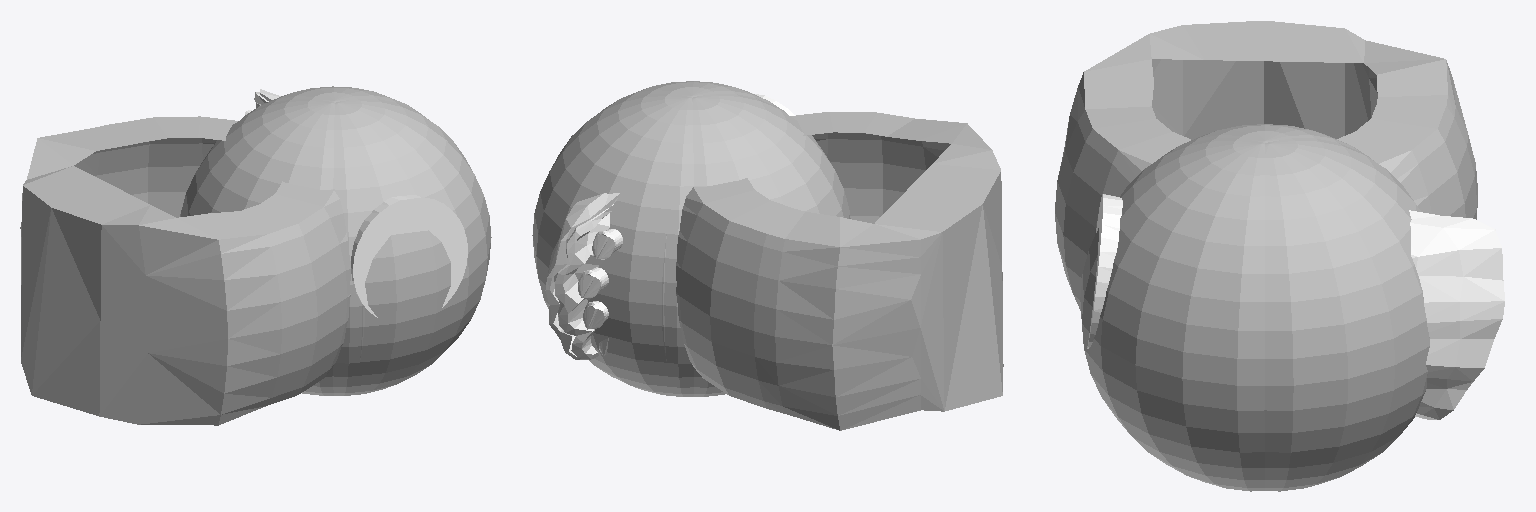
--- What the picture shows (computed from the rendered views, not written in the file) ---
3 views of the same robot in one strip: view 1: azimuth 30°, elevation 25°; view 2: azimuth 150°, elevation 25°; view 3: azimuth 270°, elevation 25° (orthographic).
Robot: JulietteY20MP_crowdbotsim — 96 links, 95 joints (45 revolute, 3 continuous, 47 fixed); root link base_link; default pose: all joints at 0 but 6 set to mid-range because 0 is outside their limits (LShoulderRoll = 0.7854, LElbowRoll = -0.7854, LHand = 0.5, RShoulderRoll = -0.7854, RElbowRoll = 0.7854, RHand = 0.5).
Links seen in each view (by area): view 1: Hip, WheelFR_link, WheelB_link, r_wrist, WheelFL_link; view 2: Hip, WheelFL_link, WheelB_link, r_wrist, WheelFR_link; view 3: Hip, WheelFR_link, WheelFL_link, r_wrist, WheelB_link.
Link boxes in pixels (x1,y1,x2,y2): Hip: [20, 116, 350, 425]; WheelFR_link: [333, 99, 491, 395]; WheelB_link: [180, 99, 364, 395]; r_wrist: [245, 89, 467, 317]; WheelFL_link: [242, 86, 428, 119]; Hip: [676, 112, 1003, 430]; WheelFL_link: [532, 94, 693, 396]; WheelB_link: [662, 94, 850, 396]; r_wrist: [545, 93, 794, 359]; WheelFR_link: [598, 81, 786, 113]; Hip: [1055, 21, 1477, 310]; WheelFR_link: [1080, 138, 1264, 491]; WheelFL_link: [1265, 138, 1429, 491]; r_wrist: [1087, 194, 1504, 419]; WheelB_link: [1158, 124, 1373, 160].
Bounding box of the posed robot: 22.98 × 17.27 × 14 m (x, y, z).
45 mesh visuals loaded from 58 distinct referenced files (45 binary STL); not drawn: 13 (reference not matched to a file when rendering).

The robot description file, URDF, robot "JulietteY20MP_crowdbotsim":
<?xml version="1.0" encoding="utf-8"?>
<robot name="JulietteY20MP_crowdbotsim">
  <material name="defaultMat">
    <color rgba="0.8 0.8 0.8 1" />
  </material>
  <material name="PepperWhiteBright">
    <color rgba="1 1 1 1" />
  </material>
  <material name="HipRoll_GROUPE_01_JULIETT.000Mat">
    <color rgba="0.8 0.8 0.8 1" />
  </material>
  <material name="HeadYaw_JULIETTE_TETE_GROUPE_Mat">
    <color rgba="0.8 0.8 0.8 1" />
  </material>
  <material name="PepperBlackMat">
    <color rgba="0.1471 0.1471 0.1471 1" />
  </material>
  <material name="PepperBlueMat">
    <color rgba="0.2564 0.3478 0.6838 1" />
  </material>
  <material name="logoCB2">
    <texture filename="package://crowdbotsim/resources/logoCB.png" />
  </material>
  <material name="LShoulderPitch_JULIETTE_BRAS_DR_.001Mat">
    <color rgba="0.8 0.8 0.8 1" />
  </material>
  <material name="LElbowYaw_JULIETTE_AV_BRAS_.026Mat">
    <color rgba="0.8 0.8 0.8 1" />
  </material>
  <material name="LFinger21_JULIETTE_AV_BRAS_.077Mat">
    <color rgba="0.8 0.8 0.8 1" />
  </material>
  <material name="LFinger22_JULIETTE_AV_BRAS_.078Mat">
    <color rgba="0.8 0.8 0.8 1" />
  </material>
  <material name="LFinger23_JULIETTE_AV_BRAS_.079Mat">
    <color rgba="0.8 0.8 0.8 1" />
  </material>
  <material name="LFinger11_JULIETTE_AV_BRAS_.075Mat">
    <color rgba="0.8 0.8 0.8 1" />
  </material>
  <material name="LFinger12_JULIETTE_AV_BRAS_.076Mat">
    <color rgba="0.8 0.8 0.8 1" />
  </material>
  <material name="LFinger13_JULIETTE_AV_BRAS_.010Mat">
    <color rgba="0.8 0.8 0.8 1" />
  </material>
  <material name="LFinger41_JULIETTE_AV_BRAS_.083Mat">
    <color rgba="0.8 0.8 0.8 1" />
  </material>
  <material name="LFinger42_JULIETTE_AV_BRAS_.084Mat">
    <color rgba="0.8 0.8 0.8 1" />
  </material>
  <material name="LFinger43_JULIETTE_AV_BRAS_.085Mat">
    <color rgba="0.8 0.8 0.8 1" />
  </material>
  <material name="LFinger31_JULIETTE_AV_BRAS_.080Mat">
    <color rgba="0.8 0.8 0.8 1" />
  </material>
  <material name="LFinger32_JULIETTE_AV_BRAS_.081Mat">
    <color rgba="0.8 0.8 0.8 1" />
  </material>
  <material name="LFinger33_JULIETTE_AV_BRAS_.082Mat">
    <color rgba="0.8 0.8 0.8 1" />
  </material>
  <material name="LThumb1_JULIETTE_AV_BRAS_.086Mat">
    <color rgba="0.8 0.8 0.8 1" />
  </material>
  <material name="LThumb2_JULIETTE_AV_BRAS_.087Mat">
    <color rgba="0.8 0.8 0.8 1" />
  </material>
  <material name="RShoulderPitch_JULIETTE_BRAS_DR_ALLMat">
    <color rgba="0.8 0.8 0.8 1" />
  </material>
  <material name="RElbowYaw_JULIETTE_AV_BRAS_.003Mat">
    <color rgba="0.8 0.8 0.8 1" />
  </material>
  <material name="RFinger41_JULIETTE_AV_BRAS_.099Mat">
    <color rgba="0.8 0.8 0.8 1" />
  </material>
  <material name="RFinger42_JULIETTE_AV_BRAS_.100Mat">
    <color rgba="0.8 0.8 0.8 1" />
  </material>
  <material name="RFinger43_JULIETTE_AV_BRAS_.101Mat">
    <color rgba="0.8 0.8 0.8 1" />
  </material>
  <material name="RFinger31_JULIETTE_AV_BRAS_.096Mat">
    <color rgba="0.8 0.8 0.8 1" />
  </material>
  <material name="RFinger32_JULIETTE_AV_BRAS_.097Mat">
    <color rgba="0.8 0.8 0.8 1" />
  </material>
  <material name="RFinger33_JULIETTE_AV_BRAS_.098Mat">
    <color rgba="0.8 0.8 0.8 1" />
  </material>
  <material name="RFinger21_JULIETTE_AV_BRAS_.093Mat">
    <color rgba="0.8 0.8 0.8 1" />
  </material>
  <material name="RFinger22_JULIETTE_AV_BRAS_.094Mat">
    <color rgba="0.8 0.8 0.8 1" />
  </material>
  <material name="RFinger23_JULIETTE_AV_BRAS_.095Mat">
    <color rgba="0.8 0.8 0.8 1" />
  </material>
  <material name="RFinger11_JULIETTE_AV_BRAS_.090Mat">
    <color rgba="0.8 0.8 0.8 1" />
  </material>
  <material name="RFinger12_JULIETTE_AV_BRAS_.091Mat">
    <color rgba="0.8 0.8 0.8 1" />
  </material>
  <material name="RFinger13_JULIETTE_AV_BRAS_.092Mat">
    <color rgba="0.8 0.8 0.8 1" />
  </material>
  <material name="RThumb1_JULIETTE_AV_BRAS_.088Mat">
    <color rgba="0.8 0.8 0.8 1" />
  </material>
  <material name="RThumb2_JULIETTE_AV_BRAS_.089Mat">
    <color rgba="0.8 0.8 0.8 1" />
  </material>
  <material name="WheelFL_GROUPE_01_JULIETT.003Mat">
    <color rgba="0.8 0.8 0.8 1" />
  </material>
  <material name="WheelB_GROUPE_01_JULIETT.004Mat">
    <color rgba="0.8 0.8 0.8 1" />
  </material>
  <material name="WheelFR_GROUPE_01_JULIETT.002Mat">
    <color rgba="0.8 0.8 0.8 1" />
  </material>
  <link name="base_link">
    <inertial>
      <origin rpy="0 0 0" xyz="0 0 0" />
      <mass value="1E-07" />
      <inertia ixx="1" ixy="0" ixz="0" iyy="1" iyz="0" izz="1" />
    </inertial>
  </link>
  <link name="base_footprint">
    <inertial>
      <origin rpy="0 0 0" xyz="0 0 0" />
      <mass value="1E-07" />
      <inertia ixx="1" ixy="0" ixz="0" iyy="1" iyz="0" izz="1" />
    </inertial>
  </link>
  <link name="Tibia">
    <inertial>
      <origin rpy="0 0 0" xyz="0.002205 0 0.082271" />
      <mass value="11.6014995575" />
      <inertia ixx="0.129179716110229" ixy="0.000148943698150106" ixz="-0.00131446425803006" iyy="0.122817315161228" iyz="-6.18266966512238E-08" izz="0.108239002525806" />
    </inertial>
    <visual>
      <geometry>
        <mesh filename="package://crowdbotsim/meshes/KneePitch_shiny.stl" scale="0.1 0.1 0.1" />
      </geometry>
      <material name="defaultMat" />
    </visual>
    <collision>
      <geometry>
        <mesh filename="package://crowdbotsim/meshes/KneePitch_0.10.stl" scale="0.1 0.1 0.1" />
      </geometry>
    </collision>
  </link>
  <link name="Pelvis">
    <inertial>
      <origin rpy="0 0 0" xyz="0.00237 0 -0.01754" />
      <mass value="2.4591701031" />
      <inertia ixx="0.0343529880046844" ixy="4.50889419880696E-05" ixz="-4.85995178678422E-06" iyy="0.0303127057850361" iyz="-8.37638581288047E-05" izz="0.0143746118992567" />
    </inertial>
    <visual>
      <origin xyz="0 0 0.268" />
      <geometry>
        <mesh filename="package://crowdbotsim/meshes/HipPitch_milky.stl" scale="0.1 0.1 0.1" />
      </geometry>
      <material name="PepperWhiteBright" />
    </visual>
    <collision>
      <origin xyz="0 0 0.268" />
      <geometry>
        <mesh filename="package://crowdbotsim/meshes/HipPitch_0.10.stl" scale="0.1 0.1 0.1" />
      </geometry>
    </collision>
  </link>
  <link name="Hip">
    <inertial>
      <origin rpy="0 0 0" xyz="0.00032 0 -0.07068" />
      <mass value="1.0233800411" />
      <inertia ixx="0.00440107891336083" ixy="4.93292791361455E-05" ixz="-4.91466471430613E-06" iyy="0.00502362661063671" iyz="5.6753218814265E-05" izz="0.00642004469409585" />
    </inertial>
    <visual>
      <origin xyz="0 0 0.079" />
      <geometry>
        <mesh filename="package://crowdbotsim/meshes/HipRoll.stl" scale="0.1 0.1 0.1" />
      </geometry>
      <material name="HipRoll_GROUPE_01_JULIETT.000Mat" />
    </visual>
    <collision>
      <origin xyz="0 0 0.079" />
      <geometry>
        <mesh filename="package://crowdbotsim/meshes/HipRoll_0.10.stl" scale="0.1 0.1 0.1" />
      </geometry>
    </collision>
  </link>
  <link name="torso">
    <inertial>
      <origin rpy="0 0 0" xyz="0.00322 0 0.12871" />
      <mass value="3.9953300953" />
      <inertia ixx="0.0462998189032078" ixy="0.000730161496903747" ixz="-0.000433180946856737" iyy="0.0434471257030964" iyz="-0.00027618368039839" izz="0.0246874690055847" />
    </inertial>
    <visual>
      <origin xyz="0 0 0.139" />
      <geometry>
        <mesh filename="package://crowdbotsim/meshes/Torso_milky.stl" scale="0.1 0.1 0.1" />
      </geometry>
      <material name="PepperWhiteBright" />
    </visual>
    <collision>
      <origin xyz="0 0 0.139" />
      <geometry>
        <mesh filename="package://crowdbotsim/meshes/Torso_0.10.stl" scale="0.1 0.1 0.1" />
      </geometry>
    </collision>
  </link>
  <link name="Neck">
    <inertial>
      <origin rpy="0 0 0" xyz="-0.00207 0 -0.02636" />
      <mass value="0.273909986" />
      <inertia ixx="0.000247044081334025" ixy="-2.66084553004475E-05" ixz="7.60054826969281E-05" iyy="0.000340656319167465" iyz="3.71161549992394E-05" izz="0.000464950891910121" />
    </inertial>
    <visual>
      <geometry>
        <mesh filename="package://crowdbotsim/meshes/HeadYaw.stl" scale="0.1 0.1 0.1" />
      </geometry>
      <material name="HeadYaw_JULIETTE_TETE_GROUPE_Mat" />
    </visual>
    <collision>
      <geometry>
        <mesh filename="package://crowdbotsim/meshes/HeadYaw_0.10.stl" scale="0.1 0.1 0.1" />
      </geometry>
    </collision>
  </link>
  <link name="Head">
    <inertial>
      <origin rpy="0 0 0" xyz="0.00312 0 0.11152" />
      <mass value="1.5189299583" />
      <inertia ixx="0.00600580452010036" ixy="3.95542592741549E-05" ixz="5.45834609511076E-07" iyy="0.00592098152264953" iyz="4.83686221741664E-07" izz="0.00565444212406874" />
    </inertial>
    <visual>
      <geometry>
        <mesh filename="package://crowdbotsim/meshes/HeadPitch_eyes.stl" scale="0.1 0.1 0.1" />
      </geometry>
      <material name="PepperBlackMat" />
    </visual>
    <collision>
      <geometry>
        <mesh filename="package://crowdbotsim/meshes/HeadPitch_0.10.stl" scale="0.1 0.1 0.1" />
      </geometry>
    </collision>
  </link>
  <link name="HeadPitch_milky">
    <inertial>
      <origin rpy="0 0 0" xyz="0 0 0" />
      <mass value="1E-07" />
      <inertia ixx="1" ixy="0" ixz="0" iyy="1" iyz="0" izz="1" />
    </inertial>
    <visual>
      <geometry>
        <mesh filename="package://crowdbotsim/meshes/HeadPitch_milky.stl" scale="0.1 0.1 0.1" />
      </geometry>
      <material name="defaultMat" />
    </visual>
  </link>
  <link name="HeadPitch_ears">
    <inertial>
      <origin rpy="0 0 0" xyz="0 0 0" />
      <mass value="1E-07" />
      <inertia ixx="1" ixy="0" ixz="0" iyy="1" iyz="0" izz="1" />
    </inertial>
    <visual>
      <geometry>
        <mesh filename="package://crowdbotsim/meshes/HeadPitch_ears.stl" scale="0.1 0.1 0.1" />
      </geometry>
      <material name="PepperBlueMat" />
    </visual>
  </link>
  <link name="HeadPitch_shiny">
    <inertial>
      <origin rpy="0 0 0" xyz="0 0 0" />
      <mass value="1E-07" />
      <inertia ixx="1" ixy="0" ixz="0" iyy="1" iyz="0" izz="1" />
    </inertial>
    <visual>
      <geometry>
        <mesh filename="package://crowdbotsim/meshes/HeadPitch_shiny.stl" scale="0.1 0.1 0.1" />
      </geometry>
      <material name="PepperWhiteBright" />
    </visual>
  </link>
  <link name="RSpeaker_frame">
    <inertial>
      <origin rpy="0 0 0" xyz="0 0 0" />
      <mass value="1E-07" />
      <inertia ixx="1" ixy="0" ixz="0" iyy="1" iyz="0" izz="1" />
    </inertial>
  </link>
  <link name="LSpeaker_frame">
    <inertial>
      <origin rpy="0 0 0" xyz="0 0 0" />
      <mass value="1E-07" />
      <inertia ixx="1" ixy="0" ixz="0" iyy="1" iyz="0" izz="1" />
    </inertial>
  </link>
  <link name="CameraTop_frame">
    <inertial>
      <origin rpy="0 0 0" xyz="0 0 0" />
      <mass value="1E-07" />
      <inertia ixx="1" ixy="0" ixz="0" iyy="1" iyz="0" izz="1" />
    </inertial>
  </link>
  <link name="CameraTop_optical_frame">
    <inertial>
      <origin rpy="0 0 0" xyz="0 0 0" />
      <mass value="1E-07" />
      <inertia ixx="1" ixy="0" ixz="0" iyy="1" iyz="0" izz="1" />
    </inertial>
  </link>
  <link name="CameraDepth_frame">
    <inertial>
      <origin rpy="0 0 0" xyz="0 0 0" />
      <mass value="1E-07" />
      <inertia ixx="1" ixy="0" ixz="0" iyy="1" iyz="0" izz="1" />
    </inertial>
  </link>
  <link name="CameraDepth_optical_frame">
    <inertial>
      <origin rpy="0 0 0" xyz="0 0 0" />
      <mass value="1E-07" />
      <inertia ixx="1" ixy="0" ixz="0" iyy="1" iyz="0" izz="1" />
    </inertial>
  </link>
  <link name="HeadTouchFront_frame">
    <inertial>
      <origin rpy="0 0 0" xyz="0 0 0" />
      <mass value="1E-07" />
      <inertia ixx="1" ixy="0" ixz="0" iyy="1" iyz="0" izz="1" />
    </inertial>
  </link>
  <link name="CameraBottom_frame">
    <inertial>
      <origin rpy="0 0 0" xyz="0 0 0" />
      <mass value="1E-07" />
      <inertia ixx="1" ixy="0" ixz="0" iyy="1" iyz="0" izz="1" />
    </inertial>
  </link>
  <link name="CameraBottom_optical_frame">
    <inertial>
      <origin rpy="0 0 0" xyz="0 0 0" />
      <mass value="1E-07" />
      <inertia ixx="1" ixy="0" ixz="0" iyy="1" iyz="0" izz="1" />
    </inertial>
  </link>
  <link name="HeadTouchRear_frame">
    <inertial>
      <origin rpy="0 0 0" xyz="0 0 0" />
      <mass value="1E-07" />
      <inertia ixx="1" ixy="0" ixz="0" iyy="1" iyz="0" izz="1" />
    </inertial>
  </link>
  <link name="HeadTouchMiddle_frame">
    <inertial>
      <origin rpy="0 0 0" xyz="0 0 0" />
      <mass value="1E-07" />
      <inertia ixx="1" ixy="0" ixz="0" iyy="1" iyz="0" izz="1" />
    </inertial>
  </link>
  <link name="Torso_shiny">
    <inertial>
      <origin rpy="0 0 0" xyz="0 0 0.0695" />
      <mass value="1E-07" />
      <inertia ixx="1" ixy="0" ixz="0" iyy="1" iyz="0" izz="1" />
    </inertial>
    <visual>
      <origin xyz="0 0 0.0695" />
      <geometry>
        <mesh filename="package://crowdbotsim/meshes/Torso_shiny.stl" scale="0.1 0.1 0.1" />
      </geometry>
      <material name="defaultMat" />
    </visual>
  </link>
  <link name="Torso_transparent">
    <inertial>
      <origin rpy="0 0 0" xyz="0 0 0.0695" />
      <mass value="1E-07" />
      <inertia ixx="1" ixy="0" ixz="0" iyy="1" iyz="0" izz="1" />
    </inertial>
    <visual>
      <origin xyz="0 0 0.0695" />
      <geometry>
        <mesh filename="package://crowdbotsim/meshes/Torso_transparent.stl" scale="0.1 0.1 0.1" />
      </geometry>
      <material name="logoCB2" />
    </visual>
  </link>
  <link name="LShoulder">
    <inertial>
      <origin rpy="0 0 0" xyz="0.00018 -0.01856 0.00099" />
      <mass value="0.3125" />
      <inertia ixx="0.000361108541255817" ixy="-4.89721378471586E-06" ixz="6.37525658930826E-07" iyy="0.000137213835841976" iyz="-2.2163221728988E-06" izz="0.000399298907723278" />
    </inertial>
    <visual>
      <geometry>
        <mesh filename="package://crowdbotsim/meshes/LShoulderPitch.stl" scale="0.1 0.1 0.1" />
      </geometry>
      <material name="LShoulderPitch_JULIETTE_BRAS_DR_.001Mat" />
    </visual>
    <collision>
      <geometry>
        <mesh filename="package://crowdbotsim/meshes/LShoulderPitch_0.10.stl" scale="0.1 0.1 0.1" />
      </geometry>
    </collision>
  </link>
  <link name="LBicep">
    <inertial>
      <origin rpy="0 0 0" xyz="0.08151 0.01284 -0.01017" />
      <mass value="0.5052700043" />
      <inertia ixx="0.000738023722078651" ixy="-0.00036056007957086" ixz="-3.75016170437448E-05" iyy="0.00101457489654422" iyz="-7.86051896284334E-06" izz="0.00116829376202077" />
    </inertial>
    <visual>
      <geometry>
        <mesh filename="package://crowdbotsim/meshes/LShoulderRoll_milky.stl" scale="0.1 0.1 0.1" />
      </geometry>
      <material name="PepperWhiteBright" />
    </visual>
    <collision>
      <geometry>
        <mesh filename="package://crowdbotsim/meshes/LShoulderRoll_0.10.stl" scale="0.1 0.1 0.1" />
      </geometry>
    </collision>
  </link>
  <link name="LShoulderRoll_shiny">
    <inertial>
      <origin rpy="0 0 0" xyz="0 0 0" />
      <mass value="1E-07" />
      <inertia ixx="1" ixy="0" ixz="0" iyy="1" iyz="0" izz="1" />
    </inertial>
    <visual>
      <geometry>
        <mesh filename="package://crowdbotsim/meshes/LShoulderRoll_shiny.stl" scale="0.1 0.1 0.1" />
      </geometry>
      <material name="defaultMat" />
    </visual>
  </link>
  <link name="LElbow">
    <inertial>
      <origin rpy="0 0 0" xyz="-0.02297 -0.00019 0.00119" />
      <mass value="0.2749499977" />
      <inertia ixx="0.000195854983758181" ixy="-0.00010136554192286" ixz="1.06879879240296E-05" iyy="0.000255356484558433" iyz="2.80242579719925E-06" izz="0.00030657253228128" />
    </inertial>
    <visual>
      <geometry>
        <mesh filename="package://crowdbotsim/meshes/LElbowYaw.stl" scale="0.1 0.1 0.1" />
      </geometry>
      <material name="LElbowYaw_JULIETTE_AV_BRAS_.026Mat" />
    </visual>
    <collision>
      <geometry>
        <mesh filename="package://crowdbotsim/meshes/LElbowYaw_0.10.stl" scale="0.1 0.1 0.1" />
      </geometry>
    </collision>
  </link>
  <link name="LForeArm">
    <inertial>
      <origin rpy="0 0 0" xyz="0.0593 0.00271 -0.01014" />
      <mass value="0.1657900065" />
      <inertia ixx="0.00048063401482068" ixy="-0.000281982676824555" ixz="0.000403846177505329" iyy="0.00150039861910045" iyz="0.00013955649046693" izz="0.00158936984371394" />
    </inertial>
    <visual>
      <geometry>
        <mesh filename="package://crowdbotsim/meshes/LElbowRoll_shiny.stl" scale="0.1 0.1 0.1" />
      </geometry>
      <material name="defaultMat" />
    </visual>
    <collision>
      <geometry>
        <mesh filename="package://crowdbotsim/meshes/LElbowRoll_0.10.stl" scale="0.1 0.1 0.1" />
      </geometry>
    </collision>
  </link>
  <link name="LElbowRoll_milky">
    <inertial>
      <origin rpy="0 0 0" xyz="0 0 0" />
      <mass value="1E-07" />
      <inertia ixx="1" ixy="0" ixz="0" iyy="1" iyz="0" izz="1" />
    </inertial>
    <visual>
      <geometry>
        <mesh filename="package://crowdbotsim/meshes/LElbowRoll_milky.stl" scale="0.1 0.1 0.1" />
      </geometry>
      <material name="PepperWhiteBright" />
    </visual>
  </link>
  <link name="l_wrist">
    <inertial>
      <origin rpy="0 0 0" xyz="0.03536 -0.00072 -0.00207" />
      <mass value="0.2755500078" />
      <inertia ixx="0.000421455479227006" ixy="1.13368487291154E-05" ixz="-5.45127004443202E-05" iyy="0.000426045298809186" iyz="8.72357850312255E-05" izz="0.000191413579159416" />
    </inertial>
    <visual>
      <geometry>
        <mesh filename="package://crowdbotsim/meshes/LWristYaw.stl" scale="0.1 0.1 0.1" />
      </geometry>
      <material name="PepperWhiteBright" />
    </visual>
    <collision>
      <geometry>
        <mesh filename="package://crowdbotsim/meshes/LWristYaw.stl" scale="0.1 0.1 0.1" />
      </geometry>
    </collision>
  </link>
  <link name="l_gripper">
    <inertial>
      <origin rpy="0 0 0" xyz="0 0 0" />
      <mass value="0.0020000001" />
      <inertia ixx="1" ixy="0" ixz="0" iyy="1" iyz="0" izz="1" />
    </inertial>
  </link>
  <link name="LHandTouchBack_frame">
    <inertial>
      <origin rpy="0 0 0" xyz="0 0 0" />
      <mass value="1E-07" />
      <inertia ixx="1" ixy="0" ixz="0" iyy="1" iyz="0" izz="1" />
    </inertial>
  </link>
  <link name="LFinger21_link">
    <inertial>
      <origin rpy="0 0 0" xyz="0 0 0" />
      <mass value="0.0020000001" />
      <inertia ixx="1" ixy="0" ixz="0" iyy="1" iyz="0" izz="1" />
    </inertial>
    <visual>
      <origin rpy="-1.57 0 0" />
      <geometry>
        <mesh filename="package://crowdbotsim/meshes/LFinger21.stl" scale="0.1 0.1 0.1" />
      </geometry>
      <material name="LFinger21_JULIETTE_AV_BRAS_.077Mat" />
    </visual>
    <collision>
      <origin rpy="-1.57 0 0" />
      <geometry>
        <mesh filename="package://crowdbotsim/meshes/LFinger21.stl" scale="0.1 0.1 0.1" />
      </geometry>
    </collision>
  </link>
  <link name="LFinger22_link">
    <inertial>
      <origin rpy="0 0 0" xyz="0 0 0" />
      <mass value="0.0020000001" />
      <inertia ixx="1" ixy="0" ixz="0" iyy="1" iyz="0" izz="1" />
    </inertial>
    <visual>
      <origin rpy="-1.57 0 0" />
      <geometry>
        <mesh filename="package://crowdbotsim/meshes/LFinger22.stl" scale="0.1 0.1 0.1" />
      </geometry>
      <material name="LFinger22_JULIETTE_AV_BRAS_.078Mat" />
    </visual>
    <collision>
      <origin rpy="-1.57 0 0" />
      <geometry>
        <mesh filename="package://crowdbotsim/meshes/LFinger22.stl" scale="0.1 0.1 0.1" />
      </geometry>
    </collision>
  </link>
  <link name="LFinger23_link">
    <inertial>
      <origin rpy="0 0 0" xyz="0 0 0" />
      <mass value="0.0020000001" />
      <inertia ixx="1" ixy="0" ixz="0" iyy="1" iyz="0" izz="1" />
    </inertial>
    <visual>
      <origin rpy="-1.57 0 0" />
      <geometry>
        <mesh filename="package://crowdbotsim/meshes/LFinger23.stl" scale="0.1 0.1 0.1" />
      </geometry>
      <material name="LFinger23_JULIETTE_AV_BRAS_.079Mat" />
    </visual>
    <collision>
      <origin rpy="-1.57 0 0" />
      <geometry>
        <mesh filename="package://crowdbotsim/meshes/LFinger23.stl" scale="0.1 0.1 0.1" />
      </geometry>
    </collision>
  </link>
  <link name="LFinger11_link">
    <inertial>
      <origin rpy="0 0 0" xyz="0 0 0" />
      <mass value="0.0020000001" />
      <inertia ixx="1" ixy="0" ixz="0" iyy="1" iyz="0" izz="1" />
    </inertial>
    <visual>
      <origin rpy="-1.57 0 0" />
      <geometry>
        <mesh filename="package://crowdbotsim/meshes/LFinger11.stl" scale="0.1 0.1 0.1" />
      </geometry>
      <material name="LFinger11_JULIETTE_AV_BRAS_.075Mat" />
    </visual>
    <collision>
      <origin rpy="-1.57 0 0" />
      <geometry>
        <mesh filename="package://crowdbotsim/meshes/LFinger11.stl" scale="0.1 0.1 0.1" />
      </geometry>
    </collision>
  </link>
  <link name="LFinger12_link">
    <inertial>
      <origin rpy="0 0 0" xyz="0 0 0" />
      <mass value="0.0020000001" />
      <inertia ixx="1" ixy="0" ixz="0" iyy="1" iyz="0" izz="1" />
    </inertial>
    <visual>
      <origin rpy="-1.57 0 0" />
      <geometry>
        <mesh filename="package://crowdbotsim/meshes/LFinger12.stl" scale="0.1 0.1 0.1" />
      </geometry>
      <material name="LFinger12_JULIETTE_AV_BRAS_.076Mat" />
    </visual>
    <collision>
      <origin rpy="-1.57 0 0" />
      <geometry>
        <mesh filename="package://crowdbotsim/meshes/LFinger12.stl" scale="0.1 0.1 0.1" />
      </geometry>
    </collision>
  </link>
  <link name="LFinger13_link">
    <inertial>
      <origin rpy="0 0 0" xyz="0 0 0" />
      <mass value="0.0020000001" />
      <inertia ixx="1" ixy="0" ixz="0" iyy="1" iyz="0" izz="1" />
    </inertial>
    <visual>
      <origin rpy="-1.57 0 0" />
      <geometry>
        <mesh filename="package://crowdbotsim/meshes/LFinger13.stl" scale="0.1 0.1 0.1" />
      </geometry>
      <material name="LFinger13_JULIETTE_AV_BRAS_.010Mat" />
    </visual>
    <collision>
      <origin rpy="-1.57 0 0" />
      <geometry>
        <mesh filename="package://crowdbotsim/meshes/LFinger13.stl" scale="0.1 0.1 0.1" />
      </geometry>
    </collision>
  </link>
  <link name="LFinger41_link">
    <inertial>
      <origin rpy="0 0 0" xyz="0 0 0" />
      <mass value="0.0020000001" />
      <inertia ixx="1" ixy="0" ixz="0" iyy="1" iyz="0" izz="1" />
    </inertial>
    <visual>
      <origin rpy="-1.57 0 0" />
      <geometry>
        <mesh filename="package://crowdbotsim/meshes/LFinger41.stl" scale="0.1 0.1 0.1" />
      </geometry>
      <material name="LFinger41_JULIETTE_AV_BRAS_.083Mat" />
    </visual>
    <collision>
      <origin rpy="-1.57 0 0" />
      <geometry>
        <mesh filename="package://crowdbotsim/meshes/LFinger41.stl" scale="0.1 0.1 0.1" />
      </geometry>
    </collision>
  </link>
  <link name="LFinger42_link">
    <inertial>
      <origin rpy="0 0 0" xyz="0 0 0" />
      <mass value="0.0020000001" />
      <inertia ixx="1" ixy="0" ixz="0" iyy="1" iyz="0" izz="1" />
    </inertial>
    <visual>
      <origin rpy="-1.57 0 0" />
      <geometry>
        <mesh filename="package://crowdbotsim/meshes/LFinger42.stl" scale="0.1 0.1 0.1" />
      </geometry>
      <material name="LFinger42_JULIETTE_AV_BRAS_.084Mat" />
    </visual>
    <collision>
      <origin rpy="-1.57 0 0" />
      <geometry>
        <mesh filename="package://crowdbotsim/meshes/LFinger42.stl" scale="0.1 0.1 0.1" />
      </geometry>
    </collision>
  </link>
  <link name="LFinger43_link">
    <inertial>
      <origin rpy="0 0 0" xyz="0 0 0" />
      <mass value="0.0020000001" />
      <inertia ixx="1" ixy="0" ixz="0" iyy="1" iyz="0" izz="1" />
    </inertial>
    <visual>
      <origin rpy="-1.57 0 0" />
      <geometry>
        <mesh filename="package://crowdbotsim/meshes/LFinger43.stl" scale="0.1 0.1 0.1" />
      </geometry>
      <material name="LFinger43_JULIETTE_AV_BRAS_.085Mat" />
    </visual>
    <collision>
      <origin rpy="-1.57 0 0" />
      <geometry>
        <mesh filename="package://crowdbotsim/meshes/LFinger43.stl" scale="0.1 0.1 0.1" />
      </geometry>
    </collision>
  </link>
  <link name="LFinger31_link">
    <inertial>
      <origin rpy="0 0 0" xyz="0 0 0" />
      <mass value="0.0020000001" />
      <inertia ixx="1" ixy="0" ixz="0" iyy="1" iyz="0" izz="1" />
    </inertial>
    <visual>
      <origin rpy="-1.57 0 0" />
      <geometry>
        <mesh filename="package://crowdbotsim/meshes/LFinger31.stl" scale="0.1 0.1 0.1" />
      </geometry>
      <material name="LFinger31_JULIETTE_AV_BRAS_.080Mat" />
    </visual>
    <collision>
      <origin rpy="-1.57 0 0" />
      <geometry>
        <mesh filename="package://crowdbotsim/meshes/LFinger31.stl" scale="0.1 0.1 0.1" />
      </geometry>
    </collision>
  </link>
  <link name="LFinger32_link">
    <inertial>
      <origin rpy="0 0 0" xyz="0 0 0" />
      <mass value="0.0020000001" />
      <inertia ixx="1" ixy="0" ixz="0" iyy="1" iyz="0" izz="1" />
    </inertial>
    <visual>
      <origin rpy="-1.57 0 0" />
      <geometry>
        <mesh filename="package://crowdbotsim/meshes/LFinger32.stl" scale="0.1 0.1 0.1" />
      </geometry>
      <material name="LFinger32_JULIETTE_AV_BRAS_.081Mat" />
    </visual>
    <collision>
      <origin rpy="-1.57 0 0" />
      <geometry>
        <mesh filename="package://crowdbotsim/meshes/LFinger32.stl" scale="0.1 0.1 0.1" />
      </geometry>
    </collision>
  </link>
  <link name="LFinger33_link">
    <inertial>
      <origin rpy="0 0 0" xyz="0 0 0" />
      <mass value="0.0020000001" />
      <inertia ixx="1" ixy="0" ixz="0" iyy="1" iyz="0" izz="1" />
    </inertial>
    <visual>
      <origin rpy="-1.57 0 0" />
      <geometry>
        <mesh filename="package://crowdbotsim/meshes/LFinger33.stl" scale="0.1 0.1 0.1" />
      </geometry>
      <material name="LFinger33_JULIETTE_AV_BRAS_.082Mat" />
    </visual>
    <collision>
      <origin rpy="-1.57 0 0" />
      <geometry>
        <mesh filename="package://crowdbotsim/meshes/LFinger33.stl" scale="0.1 0.1 0.1" />
      </geometry>
    </collision>
  </link>
  <link name="LThumb1_link">
    <inertial>
      <origin rpy="0 0 0" xyz="0 0 0" />
      <mass value="0.0020000001" />
      <inertia ixx="1" ixy="0" ixz="0" iyy="1" iyz="0" izz="1" />
    </inertial>
    <visual>
      <origin rpy="-1.57 0 0" />
      <geometry>
        <mesh filename="package://crowdbotsim/meshes/LThumb1.stl" scale="0.1 0.1 0.1" />
      </geometry>
      <material name="LThumb1_JULIETTE_AV_BRAS_.086Mat" />
    </visual>
    <collision>
      <origin rpy="-1.57 0 0" />
      <geometry>
        <mesh filename="package://crowdbotsim/meshes/LThumb1.stl" scale="0.1 0.1 0.1" />
      </geometry>
    </collision>
  </link>
  <link name="LThumb2_link">
    <inertial>
      <origin rpy="0 0 0" xyz="0 0 0" />
      <mass value="0.0020000001" />
      <inertia ixx="1" ixy="0" ixz="0" iyy="1" iyz="0" izz="1" />
    </inertial>
    <visual>
      <origin rpy="-1.57 0 0" />
      <geometry>
        <mesh filename="package://crowdbotsim/meshes/LThumb2.stl" scale="0.1 0.1 0.1" />
      </geometry>
      <material name="LThumb2_JULIETTE_AV_BRAS_.087Mat" />
    </visual>
    <collision>
      <origin rpy="-1.57 0 0" />
      <geometry>
        <mesh filename="package://crowdbotsim/meshes/LThumb2.stl" scale="0.1 0.1 0.1" />
      </geometry>
    </collision>
  </link>
  <link name="RShoulder">
    <inertial>
      <origin rpy="0 0 0" xyz="0.00018 0.01856 0.00099" />
      <mass value="0.3125" />
      <inertia ixx="0.000361108541255817" ixy="4.89721378471586E-06" ixz="6.37525658930826E-07" iyy="0.000137213835841976" iyz="2.2163221728988E-06" izz="0.000399298907723278" />
    </inertial>
    <visual>
      <geometry>
        <mesh filename="package://crowdbotsim/meshes/RShoulderPitch.stl" scale="0.1 0.1 0.1" />
      </geometry>
      <material name="RShoulderPitch_JULIETTE_BRAS_DR_ALLMat" />
    </visual>
    <collision>
      <geometry>
        <mesh filename="package://crowdbotsim/meshes/RShoulderPitch_0.10.stl" scale="0.1 0.1 0.1" />
      </geometry>
    </collision>
  </link>
  <link name="RBicep">
    <inertial>
      <origin rpy="0 0 0" xyz="0.08151 -0.01284 -0.01017" />
      <mass value="0.5052700043" />
      <inertia ixx="0.000793765531852841" ixy="-0.000377408548956737" ixz="-3.50773734680843E-05" iyy="0.000958748394623399" iyz="-9.73487112787552E-06" izz="0.0011683776974678" />
    </inertial>
    <visual>
      <geometry>
        <mesh filename="package://crowdbotsim/meshes/RShoulderRoll_milky.stl" scale="0.1 0.1 0.1" />
      </geometry>
      <material name="PepperWhiteBright" />
    </visual>
    <collision>
      <geometry>
        <mesh filename="package://crowdbotsim/meshes/RShoulderRoll_0.10.stl" scale="0.1 0.1 0.1" />
      </geometry>
    </collision>
  </link>
  <link name="RShoulderRoll_shiny">
    <inertial>
      <origin rpy="0 0 0" xyz="0 0 0" />
      <mass value="1E-07" />
      <inertia ixx="1" ixy="0" ixz="0" iyy="1" iyz="0" izz="1" />
    </inertial>
    <visual>
      <geometry>
        <mesh filename="package://crowdbotsim/meshes/RShoulderRoll_shiny.stl" scale="0.1 0.1 0.1" />
      </geometry>
      <material name="defaultMat" />
    </visual>
  </link>
  <link name="RElbow">
    <inertial>
      <origin rpy="0 0 0" xyz="-0.02297 0.00019 0.00119" />
      <mass value="0.2749499977" />
      <inertia ixx="0.000194782085600309" ixy="-0.000101040590379853" ixz="1.07393771031639E-05" iyy="0.000256431434536353" iyz="2.76397622656077E-06" izz="0.000306570524116978" />
    </inertial>
    <visual>
      <geometry>
        <mesh filename="package://crowdbotsim/meshes/RElbowYaw.stl" scale="0.1 0.1 0.1" />
      </geometry>
      <material name="RElbowYaw_JULIETTE_AV_BRAS_.003Mat" />
    </visual>
    <collision>
      <geometry>
        <mesh filename="package://crowdbotsim/meshes/RElbowYaw_0.10.stl" scale="0.1 0.1 0.1" />
      </geometry>
    </collision>
  </link>
  <link name="RForeArm">
    <inertial>
      <origin rpy="0 0 0" xyz="0.0593 -0.00271 -0.01014" />
      <mass value="0.1657900065" />
      <inertia ixx="0.000480270071420819" ixy="-0.000281236600130796" ixz="0.00040399661520496" iyy="0.00150082213804126" iyz="0.000139315001433715" izz="0.00158930895850062" />
    </inertial>
    <visual>
      <geometry>
        <mesh filename="package://crowdbotsim/meshes/RElbowRoll_shiny.stl" scale="0.1 0.1 0.1" />
      </geometry>
      <material name="defaultMat" />
    </visual>
    <collision>
      <geometry>
        <mesh filename="package://crowdbotsim/meshes/RElbowRoll_0.10.stl" scale="0.1 0.1 0.1" />
      </geometry>
    </collision>
  </link>
  <link name="RElbowRoll_milky">
    <inertial>
      <origin rpy="0 0 0" xyz="0 0 0" />
      <mass value="1E-07" />
      <inertia ixx="1" ixy="0" ixz="0" iyy="1" iyz="0" izz="1" />
    </inertial>
    <visual>
      <geometry>
        <mesh filename="package://crowdbotsim/meshes/RElbowRoll_milky.stl" scale="0.1 0.1 0.1" />
      </geometry>
      <material name="PepperWhiteBright" />
    </visual>
  </link>
  <link name="r_wrist">
    <inertial>
      <origin rpy="0 0 0" xyz="0.03536 0.00072 -0.00207" />
      <mass value="0.2755500078" />
      <inertia ixx="0.000427103193942457" ixy="-1.15079365059501E-06" ixz="-3.33570387738291E-05" iyy="0.000456119538284838" iyz="-1.15950751933269E-05" izz="0.000155691654072143" />
    </inertial>
    <visual>
      <geometry>
        <mesh filename="package://crowdbotsim/meshes/RWristYaw.stl" scale="0.1 0.1 0.1" />
      </geometry>
      <material name="PepperWhiteBright" />
    </visual>
    <collision>
      <geometry>
        <mesh filename="package://crowdbotsim/meshes/RWristYaw.stl" scale="0.1 0.1 0.1" />
      </geometry>
    </collision>
  </link>
  <link name="r_gripper">
    <inertial>
      <origin rpy="0 0 0" xyz="0 0 0" />
      <mass value="0.0020000001" />
      <inertia ixx="1" ixy="0" ixz="0" iyy="1" iyz="0" izz="1" />
    </inertial>
  </link>
  <link name="RHandTouchBack_frame">
    <inertial>
      <origin rpy="0 0 0" xyz="0 0 0" />
      <mass value="1E-07" />
      <inertia ixx="1" ixy="0" ixz="0" iyy="1" iyz="0" izz="1" />
    </inertial>
  </link>
  <link name="RFinger41_link">
    <inertial>
      <origin rpy="0 0 0" xyz="0 0 0" />
      <mass value="0.0020000001" />
      <inertia ixx="1" ixy="0" ixz="0" iyy="1" iyz="0" izz="1" />
    </inertial>
    <visual>
      <origin rpy="-1.57 0 0" />
      <geometry>
        <mesh filename="package://crowdbotsim/meshes/RFinger41.stl" scale="0.1 0.1 0.1" />
      </geometry>
      <material name="RFinger41_JULIETTE_AV_BRAS_.099Mat" />
    </visual>
    <collision>
      <origin rpy="-1.57 0 0" />
      <geometry>
        <mesh filename="package://crowdbotsim/meshes/RFinger41.stl" scale="0.1 0.1 0.1" />
      </geometry>
    </collision>
  </link>
  <link name="RFinger42_link">
    <inertial>
      <origin rpy="0 0 0" xyz="0 0 0" />
      <mass value="0.0020000001" />
      <inertia ixx="1" ixy="0" ixz="0" iyy="1" iyz="0" izz="1" />
    </inertial>
    <visual>
      <origin rpy="-1.57 0 0" />
      <geometry>
        <mesh filename="package://crowdbotsim/meshes/RFinger42.stl" scale="0.1 0.1 0.1" />
      </geometry>
      <material name="RFinger42_JULIETTE_AV_BRAS_.100Mat" />
    </visual>
    <collision>
      <origin rpy="-1.57 0 0" />
      <geometry>
        <mesh filename="package://crowdbotsim/meshes/RFinger42.stl" scale="0.1 0.1 0.1" />
      </geometry>
    </collision>
  </link>
  <link name="RFinger43_link">
    <inertial>
      <origin rpy="0 0 0" xyz="0 0 0" />
      <mass value="0.0020000001" />
      <inertia ixx="1" ixy="0" ixz="0" iyy="1" iyz="0" izz="1" />
    </inertial>
    <visual>
      <origin rpy="-1.57 0 0" />
      <geometry>
        <mesh filename="package://crowdbotsim/meshes/RFinger43.stl" scale="0.1 0.1 0.1" />
      </geometry>
      <material name="RFinger43_JULIETTE_AV_BRAS_.101Mat" />
    </visual>
    <collision>
      <origin rpy="-1.57 0 0" />
      <geometry>
        <mesh filename="package://crowdbotsim/meshes/RFinger43.stl" scale="0.1 0.1 0.1" />
      </geometry>
    </collision>
  </link>
  <link name="RFinger31_link">
    <inertial>
      <origin rpy="0 0 0" xyz="0 0 0" />
      <mass value="0.0020000001" />
      <inertia ixx="1" ixy="0" ixz="0" iyy="1" iyz="0" izz="1" />
    </inertial>
    <visual>
      <origin rpy="-1.57 0 0" />
      <geometry>
        <mesh filename="package://crowdbotsim/meshes/RFinger31.stl" scale="0.1 0.1 0.1" />
      </geometry>
      <material name="RFinger31_JULIETTE_AV_BRAS_.096Mat" />
    </visual>
    <collision>
      <origin rpy="-1.57 0 0" />
      <geometry>
        <mesh filename="package://crowdbotsim/meshes/RFinger31.stl" scale="0.1 0.1 0.1" />
      </geometry>
    </collision>
  </link>
  <link name="RFinger32_link">
    <inertial>
      <origin rpy="0 0 0" xyz="0 0 0" />
      <mass value="0.0020000001" />
      <inertia ixx="1" ixy="0" ixz="0" iyy="1" iyz="0" izz="1" />
    </inertial>
    <visual>
      <origin rpy="-1.57 0 0" />
      <geometry>
        <mesh filename="package://crowdbotsim/meshes/RFinger32.stl" scale="0.1 0.1 0.1" />
      </geometry>
      <material name="RFinger32_JULIETTE_AV_BRAS_.097Mat" />
    </visual>
    <collision>
      <origin rpy="-1.57 0 0" />
      <geometry>
        <mesh filename="package://crowdbotsim/meshes/RFinger32.stl" scale="0.1 0.1 0.1" />
      </geometry>
    </collision>
  </link>
  <link name="RFinger33_link">
    <inertial>
      <origin rpy="0 0 0" xyz="0 0 0" />
      <mass value="0.0020000001" />
      <inertia ixx="1" ixy="0" ixz="0" iyy="1" iyz="0" izz="1" />
    </inertial>
    <visual>
      <origin rpy="-1.57 0 0" />
      <geometry>
        <mesh filename="package://crowdbotsim/meshes/RFinger33.stl" scale="0.1 0.1 0.1" />
      </geometry>
      <material name="RFinger33_JULIETTE_AV_BRAS_.098Mat" />
    </visual>
    <collision>
      <origin rpy="-1.57 0 0" />
      <geometry>
        <mesh filename="package://crowdbotsim/meshes/RFinger33.stl" scale="0.1 0.1 0.1" />
      </geometry>
    </collision>
  </link>
  <link name="RFinger21_link">
    <inertial>
      <origin rpy="0 0 0" xyz="0 0 0" />
      <mass value="0.0020000001" />
      <inertia ixx="1" ixy="0" ixz="0" iyy="1" iyz="0" izz="1" />
    </inertial>
    <visual>
      <origin rpy="-1.57 0 0" />
      <geometry>
        <mesh filename="package://crowdbotsim/meshes/RFinger21.stl" scale="0.1 0.1 0.1" />
      </geometry>
      <material name="RFinger21_JULIETTE_AV_BRAS_.093Mat" />
    </visual>
    <collision>
      <origin rpy="-1.57 0 0" />
      <geometry>
        <mesh filename="package://crowdbotsim/meshes/RFinger21.stl" scale="0.1 0.1 0.1" />
      </geometry>
    </collision>
  </link>
  <link name="RFinger22_link">
    <inertial>
      <origin rpy="0 0 0" xyz="0 0 0" />
      <mass value="0.0020000001" />
      <inertia ixx="1" ixy="0" ixz="0" iyy="1" iyz="0" izz="1" />
    </inertial>
    <visual>
      <origin rpy="-1.57 0 0" />
      <geometry>
        <mesh filename="package://crowdbotsim/meshes/RFinger22.stl" scale="0.1 0.1 0.1" />
      </geometry>
      <material name="RFinger22_JULIETTE_AV_BRAS_.094Mat" />
    </visual>
    <collision>
      <origin rpy="-1.57 0 0" />
      <geometry>
        <mesh filename="package://crowdbotsim/meshes/RFinger22.stl" scale="0.1 0.1 0.1" />
      </geometry>
    </collision>
  </link>
  <link name="RFinger23_link">
    <inertial>
      <origin rpy="0 0 0" xyz="0 0 0" />
      <mass value="0.0020000001" />
      <inertia ixx="1" ixy="0" ixz="0" iyy="1" iyz="0" izz="1" />
    </inertial>
    <visual>
      <origin rpy="-1.57 0 0" />
      <geometry>
        <mesh filename="package://crowdbotsim/meshes/RFinger23.stl" scale="0.1 0.1 0.1" />
      </geometry>
      <material name="RFinger23_JULIETTE_AV_BRAS_.095Mat" />
    </visual>
    <collision>
      <origin rpy="-1.57 0 0" />
      <geometry>
        <mesh filename="package://crowdbotsim/meshes/RFinger23.stl" scale="0.1 0.1 0.1" />
      </geometry>
    </collision>
  </link>
  <link name="RFinger11_link">
    <inertial>
      <origin rpy="0 0 0" xyz="0 0 0" />
      <mass value="0.0020000001" />
      <inertia ixx="1" ixy="0" ixz="0" iyy="1" iyz="0" izz="1" />
    </inertial>
    <visual>
      <origin rpy="-1.57 0 0" />
      <geometry>
        <mesh filename="package://crowdbotsim/meshes/RFinger11.stl" scale="0.1 0.1 0.1" />
      </geometry>
      <material name="RFinger11_JULIETTE_AV_BRAS_.090Mat" />
    </visual>
    <collision>
      <origin rpy="-1.57 0 0" />
      <geometry>
        <mesh filename="package://crowdbotsim/meshes/RFinger11.stl" scale="0.1 0.1 0.1" />
      </geometry>
    </collision>
  </link>
  <link name="RFinger12_link">
    <inertial>
      <origin rpy="0 0 0" xyz="0 0 0" />
      <mass value="0.0020000001" />
      <inertia ixx="1" ixy="0" ixz="0" iyy="1" iyz="0" izz="1" />
    </inertial>
    <visual>
      <origin rpy="-1.57 0 0" />
      <geometry>
        <mesh filename="package://crowdbotsim/meshes/RFinger12.stl" scale="0.1 0.1 0.1" />
      </geometry>
      <material name="RFinger12_JULIETTE_AV_BRAS_.091Mat" />
    </visual>
    <collision>
      <origin rpy="-1.57 0 0" />
      <geometry>
        <mesh filename="package://crowdbotsim/meshes/RFinger12.stl" scale="0.1 0.1 0.1" />
      </geometry>
    </collision>
  </link>
  <link name="RFinger13_link">
    <inertial>
      <origin rpy="0 0 0" xyz="0 0 0" />
      <mass value="0.0020000001" />
      <inertia ixx="1" ixy="0" ixz="0" iyy="1" iyz="0" izz="1" />
    </inertial>
    <visual>
      <origin rpy="-1.57 0 0" />
      <geometry>
        <mesh filename="package://crowdbotsim/meshes/RFinger13.stl" scale="0.1 0.1 0.1" />
      </geometry>
      <material name="RFinger13_JULIETTE_AV_BRAS_.092Mat" />
    </visual>
    <collision>
      <origin rpy="-1.57 0 0" />
      <geometry>
        <mesh filename="package://crowdbotsim/meshes/RFinger13.stl" scale="0.1 0.1 0.1" />
      </geometry>
    </collision>
  </link>
  <link name="RThumb1_link">
    <inertial>
      <origin rpy="0 0 0" xyz="0 0 0" />
      <mass value="0.0020000001" />
      <inertia ixx="1" ixy="0" ixz="0" iyy="1" iyz="0" izz="1" />
    </inertial>
    <visual>
      <origin rpy="-1.57 0 0" />
      <geometry>
        <mesh filename="package://crowdbotsim/meshes/RThumb1.stl" scale="0.1 0.1 0.1" />
      </geometry>
      <material name="RThumb1_JULIETTE_AV_BRAS_.088Mat" />
    </visual>
    <collision>
      <origin rpy="-1.57 0 0" />
      <geometry>
        <mesh filename="package://crowdbotsim/meshes/RThumb1.stl" scale="0.1 0.1 0.1" />
      </geometry>
    </collision>
  </link>
  <link name="RThumb2_link">
    <inertial>
      <origin rpy="0 0 0" xyz="0 0 0" />
      <mass value="0.0020000001" />
      <inertia ixx="1" ixy="0" ixz="0" iyy="1" iyz="0" izz="1" />
    </inertial>
    <visual>
      <origin rpy="-1.57 0 0" />
      <geometry>
        <mesh filename="package://crowdbotsim/meshes/RThumb2.stl" scale="0.1 0.1 0.1" />
      </geometry>
      <material name="RThumb2_JULIETTE_AV_BRAS_.089Mat" />
    </visual>
    <collision>
      <origin rpy="-1.57 0 0" />
      <geometry>
        <mesh filename="package://crowdbotsim/meshes/RThumb2.stl" scale="0.1 0.1 0.1" />
      </geometry>
    </collision>
  </link>
  <link name="ImuTorsoAccelerometer_frame">
    <inertial>
      <origin rpy="0 0 0" xyz="0 0 0" />
      <mass value="1E-07" />
      <inertia ixx="1" ixy="0" ixz="0" iyy="1" iyz="0" izz="1" />
    </inertial>
  </link>
  <link name="ImuTorsoGyrometer_frame">
    <inertial>
      <origin rpy="0 0 0" xyz="0 0 0" />
      <mass value="1E-07" />
      <inertia ixx="1" ixy="0" ixz="0" iyy="1" iyz="0" izz="1" />
    </inertial>
  </link>
  <link name="Tablet_frame">
    <inertial>
      <origin rpy="0 0 0" xyz="0 0 0" />
      <mass value="1E-07" />
      <inertia ixx="1" ixy="0" ixz="0" iyy="1" iyz="0" izz="1" />
    </inertial>
  </link>
  <link name="ChestButton_frame">
    <inertial>
      <origin rpy="0 0 0" xyz="0 0 0" />
      <mass value="1E-07" />
      <inertia ixx="1" ixy="0" ixz="0" iyy="1" iyz="0" izz="1" />
    </inertial>
  </link>
  <link name="HipPitch_shiny">
    <inertial>
      <origin rpy="0 0 0" xyz="0 0 0.268" />
      <mass value="1E-07" />
      <inertia ixx="1" ixy="0" ixz="0" iyy="1" iyz="0" izz="1" />
    </inertial>
    <visual>
      <origin xyz="0 0 0.268" />
      <geometry>
        <mesh filename="package://crowdbotsim/meshes/HipPitch_shiny.stl" scale="0.1 0.1 0.1" />
      </geometry>
      <material name="defaultMat" />
    </visual>
  </link>
  <link name="KneePitch_milky">
    <inertial>
      <origin rpy="0 0 0" xyz="0 0 0" />
      <mass value="1E-07" />
      <inertia ixx="1" ixy="0" ixz="0" iyy="1" iyz="0" izz="1" />
    </inertial>
    <visual>
      <geometry>
        <mesh filename="package://crowdbotsim/meshes/KneePitch_milky.stl" scale="0.1 0.1 0.1" />
      </geometry>
      <material name="PepperWhiteBright" />
    </visual>
  </link>
  <link name="SonarBack_frame">
    <inertial>
      <origin rpy="0 0 0" xyz="0 0 0" />
      <mass value="1E-07" />
      <inertia ixx="1" ixy="0" ixz="0" iyy="1" iyz="0" izz="1" />
    </inertial>
  </link>
  <link name="VerticalLeftLaser_frame">
    <inertial>
      <origin rpy="0 0 0" xyz="0 0 0" />
      <mass value="1E-07" />
      <inertia ixx="1" ixy="0" ixz="0" iyy="1" iyz="0" izz="1" />
    </inertial>
  </link>
  <link name="SurroundingFrontLaser_device_frame">
    <inertial>
      <origin rpy="0 0 0" xyz="0 0 0" />
      <mass value="1E-07" />
      <inertia ixx="1" ixy="0" ixz="0" iyy="1" iyz="0" izz="1" />
    </inertial>
  </link>
  <link name="BumperB_frame">
    <inertial>
      <origin rpy="0 0 0" xyz="0 0 0" />
      <mass value="1E-07" />
      <inertia ixx="1" ixy="0" ixz="0" iyy="1" iyz="0" izz="1" />
    </inertial>
  </link>
  <link name="SurroundingLeftLaser_frame">
    <inertial>
      <origin rpy="0 0 0" xyz="0 0 0" />
      <mass value="1E-07" />
      <inertia ixx="1" ixy="0" ixz="0" iyy="1" iyz="0" izz="1" />
    </inertial>
  </link>
  <link name="ShovelLaser_frame">
    <inertial>
      <origin rpy="0 0 0" xyz="0 0 0" />
      <mass value="1E-07" />
      <inertia ixx="1" ixy="0" ixz="0" iyy="1" iyz="0" izz="1" />
    </inertial>
  </link>
  <link name="SurroundingRightLaser_device_frame">
    <inertial>
      <origin rpy="0 0 0" xyz="0 0 0" />
      <mass value="1E-07" />
      <inertia ixx="1" ixy="0" ixz="0" iyy="1" iyz="0" izz="1" />
    </inertial>
  </link>
  <link name="SurroundingLeftLaser_device_frame">
    <inertial>
      <origin rpy="0 0 0" xyz="0 0 0" />
      <mass value="1E-07" />
      <inertia ixx="1" ixy="0" ixz="0" iyy="1" iyz="0" izz="1" />
    </inertial>
  </link>
  <link name="SurroundingRightLaser_frame">
    <inertial>
      <origin rpy="0 0 0" xyz="0 0 0" />
      <mass value="1E-07" />
      <inertia ixx="1" ixy="0" ixz="0" iyy="1" iyz="0" izz="1" />
    </inertial>
  </link>
  <link name="VerticalRightLaser_frame">
    <inertial>
      <origin rpy="0 0 0" xyz="0 0 0" />
      <mass value="1E-07" />
      <inertia ixx="1" ixy="0" ixz="0" iyy="1" iyz="0" izz="1" />
    </inertial>
  </link>
  <link name="SonarFront_frame">
    <inertial>
      <origin rpy="0 0 0" xyz="0 0 0" />
      <mass value="1E-07" />
      <inertia ixx="1" ixy="0" ixz="0" iyy="1" iyz="0" izz="1" />
    </inertial>
  </link>
  <link name="BumperFL_frame">
    <inertial>
      <origin rpy="0 0 0" xyz="0 0 0" />
      <mass value="1E-07" />
      <inertia ixx="1" ixy="0" ixz="0" iyy="1" iyz="0" izz="1" />
    </inertial>
  </link>
  <link name="ImuBaseAccelerometer_frame">
    <inertial>
      <origin rpy="0 0 0" xyz="0 0 0" />
      <mass value="1E-07" />
      <inertia ixx="1" ixy="0" ixz="0" iyy="1" iyz="0" izz="1" />
    </inertial>
  </link>
  <link name="BumperFR_frame">
    <inertial>
      <origin rpy="0 0 0" xyz="0 0 0" />
      <mass value="1E-07" />
      <inertia ixx="1" ixy="0" ixz="0" iyy="1" iyz="0" izz="1" />
    </inertial>
  </link>
  <link name="SurroundingFrontLaser_frame">
    <inertial>
      <origin rpy="0 0 0" xyz="0 0 0" />
      <mass value="1E-07" />
      <inertia ixx="1" ixy="0" ixz="0" iyy="1" iyz="0" izz="1" />
    </inertial>
  </link>
  <link name="WheelFL_link">
    <inertial>
      <origin rpy="0 0 0" xyz="0 0 0" />
      <mass value="1.5802799463" />
      <inertia ixx="0.00296489312313497" ixy="5.12017209075566E-07" ixz="8.84578668092217E-08" iyy="0.00299945333972573" iyz="5.60776925340178E-06" izz="0.00303135369904339" />
    </inertial>
    <visual>
      <geometry>
        <mesh filename="package://crowdbotsim/meshes/WheelFL.stl" scale="0.1 0.1 0.1" />
      </geometry>
      <material name="WheelFL_GROUPE_01_JULIETT.003Mat" />
    </visual>
    <collision>
      <geometry>
        <mesh filename="package://crowdbotsim/meshes/WheelFL_0.10.stl" scale="0.1 0.1 0.1" />
      </geometry>
    </collision>
  </link>
  <link name="WheelB_link">
    <inertial>
      <origin rpy="0 0 0" xyz="0 0 0" />
      <mass value="1.5802799463" />
      <inertia ixx="0.00296489312313497" ixy="5.12017209075566E-07" ixz="8.84578668092217E-08" iyy="0.00299945333972573" iyz="5.60776925340178E-06" izz="0.00303135369904339" />
    </inertial>
    <visual>
      <geometry>
        <mesh filename="package://crowdbotsim/meshes/WheelB.stl" scale="0.1 0.1 0.1" />
      </geometry>
      <material name="WheelB_GROUPE_01_JULIETT.004Mat" />
    </visual>
    <collision>
      <geometry>
        <mesh filename="package://crowdbotsim/meshes/WheelB_0.10.stl" scale="0.1 0.1 0.1" />
      </geometry>
    </collision>
  </link>
  <link name="WheelFR_link">
    <inertial>
      <origin rpy="0 0 0" xyz="0 0 0" />
      <mass value="1.5802799463" />
      <inertia ixx="0.00296489312313497" ixy="5.12017209075566E-07" ixz="8.84578668092217E-08" iyy="0.00299945333972573" iyz="5.60776925340178E-06" izz="0.00303135369904339" />
    </inertial>
    <visual>
      <geometry>
        <mesh filename="package://crowdbotsim/meshes/WheelFR.stl" scale="0.1 0.1 0.1" />
      </geometry>
      <material name="WheelFR_GROUPE_01_JULIETT.002Mat" />
    </visual>
    <collision>
      <geometry>
        <mesh filename="package://crowdbotsim/meshes/WheelFR_0.10.stl" scale="0.1 0.1 0.1" />
      </geometry>
    </collision>
  </link>
  <link name="sick_laser_rear">
    <inertial>
      <origin rpy="0 0 0" xyz="0 0 0" />
      <mass value="0.1000000015" />
      <inertia ixx="1" ixy="0" ixz="0" iyy="1" iyz="0" izz="1" />
    </inertial>
    <visual>
      <geometry>
        <box size="0.05 0.05 0.05" />
      </geometry>
      <material name="PepperBlackMat" />
    </visual>
  </link>
  <link name="sick_laser_front">
    <inertial>
      <origin rpy="0 0 0" xyz="0 0 0" />
      <mass value="0.1000000015" />
      <inertia ixx="1" ixy="0" ixz="0" iyy="1" iyz="0" izz="1" />
    </inertial>
    <visual>
      <geometry>
        <box size="0.05 0.05 0.05" />
      </geometry>
      <material name="PepperBlackMat" />
    </visual>
  </link>
  <joint name="base_link_joint" type="fixed">
    <parent link="base_link" />
    <child link="base_footprint" />
  </joint>
  <joint name="base_footprint_joint" type="fixed">
    <origin xyz="0 0 0.334" />
    <parent link="base_footprint" />
    <child link="Tibia" />
  </joint>
  <joint name="KneePitch" type="revolute">
    <parent link="Tibia" />
    <child link="Pelvis" />
    <axis xyz="0 -1 0" />
    <limit lower="-0.514872" upper="0.514872" effort="1000" velocity="1000" />
  </joint>
  <joint name="HipPitch" type="revolute">
    <origin xyz="0 0 0.268" />
    <parent link="Pelvis" />
    <child link="Hip" />
    <axis xyz="0 -1 0" />
    <limit lower="-1.03847" upper="1.03847" effort="1000" velocity="1000" />
  </joint>
  <joint name="HipRoll" type="revolute">
    <origin xyz="-2E-05 0 0.079" />
    <parent link="Hip" />
    <child link="torso" />
    <axis xyz="-1 0 0" />
    <limit lower="-0.514872" upper="0.514872" effort="1000" velocity="1000" />
  </joint>
  <joint name="HeadYaw" type="revolute">
    <origin xyz="-0.038 0 0.3089" />
    <parent link="torso" />
    <child link="Neck" />
    <axis xyz="0 0 1" />
    <limit lower="-2.08567" upper="2.08567" effort="1000" velocity="1000" />
  </joint>
  <joint name="HeadPitch" type="revolute">
    <parent link="Neck" />
    <child link="Head" />
    <axis xyz="0 1 0" />
    <limit lower="-0.706858" upper="0.637045" effort="1000" velocity="1000" />
  </joint>
  <joint name="HeadPitch_milky_joint" type="fixed">
    <parent link="Head" />
    <child link="HeadPitch_milky" />
  </joint>
  <joint name="HeadPitch_ears_joint" type="fixed">
    <parent link="Head" />
    <child link="HeadPitch_ears" />
  </joint>
  <joint name="HeadPitch_shiny_joint" type="fixed">
    <parent link="Head" />
    <child link="HeadPitch_shiny" />
  </joint>
  <joint name="SpeakerRight_sensor_fixedjoint" type="fixed">
    <parent link="Head" />
    <child link="RSpeaker_frame" />
  </joint>
  <joint name="SpeakerLeft_sensor_fixedjoint" type="fixed">
    <parent link="Head" />
    <child link="LSpeaker_frame" />
  </joint>
  <joint name="CameraTop_sensor_fixedjoint" type="fixed">
    <origin xyz="0.08601 0 0.16284" />
    <parent link="Head" />
    <child link="CameraTop_frame" />
  </joint>
  <joint name="CameraTop_optical_frame_fixedjoint" type="fixed">
    <origin rpy="-1.570796 0 -1.570796" />
    <parent link="CameraTop_frame" />
    <child link="CameraTop_optical_frame" />
  </joint>
  <joint name="CameraDepth_sensor_fixedjoint" type="fixed">
    <origin xyz="0.05138 0.039 0.1194" />
    <parent link="Head" />
    <child link="CameraDepth_frame" />
  </joint>
  <joint name="CameraDepth_optical_frame_fixedjoint" type="fixed">
    <origin rpy="-1.570796 0 -1.570796" />
    <parent link="CameraDepth_frame" />
    <child link="CameraDepth_optical_frame" />
  </joint>
  <joint name="Head/Touch/Front_sensor_fixedjoint" type="fixed">
    <origin rpy="0 0.20944 0" xyz="0.028175 0 0.21267" />
    <parent link="Head" />
    <child link="HeadTouchFront_frame" />
  </joint>
  <joint name="CameraBottom_sensor_fixedjoint" type="fixed">
    <origin rpy="0 0.698132 0" xyz="0.09262 0 0.06177" />
    <parent link="Head" />
    <child link="CameraBottom_frame" />
  </joint>
  <joint name="CameraBottom_optical_frame_fixedjoint" type="fixed">
    <origin rpy="-1.570796 0 -1.570796" />
    <parent link="CameraBottom_frame" />
    <child link="CameraBottom_optical_frame" />
  </joint>
  <joint name="Head/Touch/Rear_sensor_fixedjoint" type="fixed">
    <origin rpy="0 5.969026 0" xyz="-0.03376 0 0.21052" />
    <parent link="Head" />
    <child link="HeadTouchRear_frame" />
  </joint>
  <joint name="Head/Touch/Middle_sensor_fixedjoint" type="fixed">
    <origin rpy="0 6.248279 0" xyz="0.0041 0 0.2159" />
    <parent link="Head" />
    <child link="HeadTouchMiddle_frame" />
  </joint>
  <joint name="Torso_shiny_joint" type="fixed">
    <origin xyz="0 0 0.0695" />
    <parent link="torso" />
    <child link="Torso_shiny" />
  </joint>
  <joint name="Torso_transparent_joint" type="fixed">
    <origin xyz="0 0 0.0695" />
    <parent link="torso" />
    <child link="Torso_transparent" />
  </joint>
  <joint name="LShoulderPitch" type="revolute">
    <origin xyz="-0.057 0.14974 0.22582" />
    <parent link="torso" />
    <child link="LShoulder" />
    <axis xyz="0 1 0" />
    <limit lower="-2.08567" upper="2.08567" effort="1000" velocity="1000" />
  </joint>
  <joint name="LShoulderRoll" type="revolute">
    <parent link="LShoulder" />
    <child link="LBicep" />
    <axis xyz="0 0 1" />
    <limit lower="0.008727" upper="1.56207" effort="1000" velocity="1000" />
  </joint>
  <joint name="LShoulderRoll_shiny_joint" type="fixed">
    <parent link="LBicep" />
    <child link="LShoulderRoll_shiny" />
  </joint>
  <joint name="LElbowYaw" type="revolute">
    <origin rpy="0 6.126106 0" xyz="0.1812 0.015 0.00013" />
    <parent link="LBicep" />
    <child link="LElbow" />
    <axis xyz="1 0 0" />
    <limit lower="-2.08567" upper="2.08567" effort="1000" velocity="1000" />
  </joint>
  <joint name="LElbowRoll" type="revolute">
    <parent link="LElbow" />
    <child link="LForeArm" />
    <axis xyz="0 0 1" />
    <limit lower="-1.56207" upper="-0.008727" effort="1000" velocity="1000" />
  </joint>
  <joint name="LElbowRoll_milky_joint" type="fixed">
    <parent link="LForeArm" />
    <child link="LElbowRoll_milky" />
  </joint>
  <joint name="LWristYaw" type="revolute">
    <origin xyz="0.15 0 0" />
    <parent link="LForeArm" />
    <child link="l_wrist" />
    <axis xyz="1 0 0" />
    <limit lower="-1.82387" upper="1.82387" effort="1000" velocity="1000" />
  </joint>
  <joint name="LHand" type="revolute">
    <origin xyz="0.025 0 0" />
    <parent link="l_wrist" />
    <child link="l_gripper" />
    <axis xyz="1 0 0" />
    <limit lower="0.02" upper="0.98" effort="1000" velocity="1000" />
  </joint>
  <joint name="LHand/Touch/Back_sensor_fixedjoint" type="fixed">
    <origin rpy="0 4.712389 -1.570786" xyz="0.0523 0 0.0304" />
    <parent link="l_wrist" />
    <child link="LHandTouchBack_frame" />
  </joint>
  <joint name="LFinger21" type="revolute">
    <origin rpy="-4.712385 1.0472 -0.061086" xyz="0.0873 -0.0073 0.006" />
    <parent link="l_wrist" />
    <child link="LFinger21_link" />
    <axis xyz="0 0 1" />
    <limit lower="0" upper="0.872665" effort="1000" velocity="1000" />
  </joint>
  <joint name="LFinger22" type="revolute">
    <origin rpy="0 0 -1.0472" xyz="0.018 0 0" />
    <parent link="LFinger21_link" />
    <child link="LFinger22_link" />
    <axis xyz="0 0 1" />
    <limit lower="0" upper="0.872665" effort="1000" velocity="1000" />
  </joint>
  <joint name="LFinger23" type="revolute">
    <origin rpy="0 0 -1.0472" xyz="0.018 0 0" />
    <parent link="LFinger22_link" />
    <child link="LFinger23_link" />
    <axis xyz="0 0 1" />
    <limit lower="0" upper="0.872665" effort="1000" velocity="1000" />
  </joint>
  <joint name="LFinger11" type="revolute">
    <origin rpy="-4.539165 1.04064 -0.033433" xyz="0.0821 -0.0268 0.004" />
    <parent link="l_wrist" />
    <child link="LFinger11_link" />
    <axis xyz="0 0 1" />
    <limit lower="0" upper="0.872665" effort="1000" velocity="1000" />
  </joint>
  <joint name="LFinger12" type="revolute">
    <origin rpy="0 0 -1.0472" xyz="0.018 0 0" />
    <parent link="LFinger11_link" />
    <child link="LFinger12_link" />
    <axis xyz="0 0 1" />
    <limit lower="0" upper="0.872665" effort="1000" velocity="1000" />
  </joint>
  <joint name="LFinger13" type="revolute">
    <origin rpy="0 0 -1.0472" xyz="0.018 0 0" />
    <parent link="LFinger12_link" />
    <child link="LFinger13_link" />
    <axis xyz="0 0 1" />
    <limit lower="0" upper="0.872665" effort="1000" velocity="1000" />
  </joint>
  <joint name="LFinger41" type="revolute">
    <origin rpy="-4.885615 1.04064 -6.214846" xyz="0.074 0.0309 0" />
    <parent link="l_wrist" />
    <child link="LFinger41_link" />
    <axis xyz="0 0 1" />
    <limit lower="0" upper="0.872665" effort="1000" velocity="1000" />
  </joint>
  <joint name="LFinger42" type="revolute">
    <origin rpy="0 0 -1.0472" xyz="0.018 0 0" />
    <parent link="LFinger41_link" />
    <child link="LFinger42_link" />
    <axis xyz="0 0 1" />
    <limit lower="0" upper="0.872665" effort="1000" velocity="1000" />
  </joint>
  <joint name="LFinger43" type="revolute">
    <origin rpy="0 0 -1.0472" xyz="0.018 0 0" />
    <parent link="LFinger42_link" />
    <child link="LFinger43_link" />
    <axis xyz="0 0 1" />
    <limit lower="0" upper="0.872665" effort="1000" velocity="1000" />
  </joint>
  <joint name="LFinger31" type="revolute">
    <origin rpy="-4.816825 1.04483 -0.029314" xyz="0.0833 0.0123 0.004" />
    <parent link="l_wrist" />
    <child link="LFinger31_link" />
    <axis xyz="0 0 1" />
    <limit lower="0" upper="0.872665" effort="1000" velocity="1000" />
  </joint>
  <joint name="LFinger32" type="revolute">
    <origin rpy="0 0 -1.0472" xyz="0.018 0 0" />
    <parent link="LFinger31_link" />
    <child link="LFinger32_link" />
    <axis xyz="0 0 1" />
    <limit lower="0" upper="0.872665" effort="1000" velocity="1000" />
  </joint>
  <joint name="LFinger33" type="revolute">
    <origin rpy="0 0 -1.0472" xyz="0.018 0 0" />
    <parent link="LFinger32_link" />
    <child link="LFinger33_link" />
    <axis xyz="0 0 1" />
    <limit lower="0" upper="0.872665" effort="1000" velocity="1000" />
  </joint>
  <joint name="LThumb1" type="revolute">
    <origin rpy="-2.55836 0.80626 -5.749207" xyz="0.0482 -0.0357 -0.0199" />
    <parent link="l_wrist" />
    <child link="LThumb1_link" />
    <axis xyz="0 0 1" />
    <limit lower="0" upper="0.872665" effort="1000" velocity="1000" />
  </joint>
  <joint name="LThumb2" type="revolute">
    <origin rpy="0 0 -1.0472" xyz="0.022 0 0" />
    <parent link="LThumb1_link" />
    <child link="LThumb2_link" />
    <axis xyz="0 0 1" />
    <limit lower="0" upper="0.872665" effort="1000" velocity="1000" />
  </joint>
  <joint name="RShoulderPitch" type="revolute">
    <origin xyz="-0.057 -0.14974 0.22582" />
    <parent link="torso" />
    <child link="RShoulder" />
    <axis xyz="0 1 0" />
    <limit lower="-2.08567" upper="2.08567" effort="1000" velocity="1000" />
  </joint>
  <joint name="RShoulderRoll" type="revolute">
    <parent link="RShoulder" />
    <child link="RBicep" />
    <axis xyz="0 0 1" />
    <limit lower="-1.56207" upper="-0.008727" effort="1000" velocity="1000" />
  </joint>
  <joint name="RShoulderRoll_shiny_joint" type="fixed">
    <parent link="RBicep" />
    <child link="RShoulderRoll_shiny" />
  </joint>
  <joint name="RElbowYaw" type="revolute">
    <origin rpy="0 6.126106 0" xyz="0.1812 -0.015 0.00013" />
    <parent link="RBicep" />
    <child link="RElbow" />
    <axis xyz="1 0 0" />
    <limit lower="-2.08567" upper="2.08567" effort="1000" velocity="1000" />
  </joint>
  <joint name="RElbowRoll" type="revolute">
    <parent link="RElbow" />
    <child link="RForeArm" />
    <axis xyz="0 0 1" />
    <limit lower="0.008727" upper="1.56207" effort="1000" velocity="1000" />
  </joint>
  <joint name="RElbowRoll_milky_joint" type="fixed">
    <parent link="RForeArm" />
    <child link="RElbowRoll_milky" />
  </joint>
  <joint name="RWristYaw" type="revolute">
    <origin xyz="0.15 0 0" />
    <parent link="RForeArm" />
    <child link="r_wrist" />
    <axis xyz="1 0 0" />
    <limit lower="-1.82387" upper="1.82387" effort="1000" velocity="1000" />
  </joint>
  <joint name="RHand" type="revolute">
    <origin xyz="0.025 0 0" />
    <parent link="r_wrist" />
    <child link="r_gripper" />
    <axis xyz="1 0 0" />
    <limit lower="0.02" upper="0.98" effort="1000" velocity="1000" />
  </joint>
  <joint name="RHand/Touch/Back_sensor_fixedjoint" type="fixed">
    <origin rpy="0 4.712389 -1.570786" xyz="0.0523 0 0.0304" />
    <parent link="r_wrist" />
    <child link="RHandTouchBack_frame" />
  </joint>
  <joint name="RFinger41" type="revolute">
    <origin rpy="-4.539165 1.04064 -0.06834" xyz="0.074 -0.0309 0" />
    <parent link="r_wrist" />
    <child link="RFinger41_link" />
    <axis xyz="0 0 1" />
    <limit lower="0" upper="0.872665" effort="1000" velocity="1000" />
  </joint>
  <joint name="RFinger42" type="revolute">
    <origin rpy="0 0 -1.0472" xyz="0.018 0 0" />
    <parent link="RFinger41_link" />
    <child link="RFinger42_link" />
    <axis xyz="0 0 1" />
    <limit lower="0" upper="0.872665" effort="1000" velocity="1000" />
  </joint>
  <joint name="RFinger43" type="revolute">
    <origin rpy="0 0 -1.0472" xyz="0.018 0 0" />
    <parent link="RFinger42_link" />
    <child link="RFinger43_link" />
    <axis xyz="0 0 1" />
    <limit lower="0" upper="0.872665" effort="1000" velocity="1000" />
  </joint>
  <joint name="RFinger31" type="revolute">
    <origin rpy="-4.607955 1.04483 -6.253869" xyz="0.0833 -0.0123 0.004" />
    <parent link="r_wrist" />
    <child link="RFinger31_link" />
    <axis xyz="0 0 1" />
    <limit lower="0" upper="0.872665" effort="1000" velocity="1000" />
  </joint>
  <joint name="RFinger32" type="revolute">
    <origin rpy="0 0 -1.0472" xyz="0.018 0 0" />
    <parent link="RFinger31_link" />
    <child link="RFinger32_link" />
    <axis xyz="0 0 1" />
    <limit lower="0" upper="0.872665" effort="1000" velocity="1000" />
  </joint>
  <joint name="RFinger33" type="revolute">
    <origin rpy="0 0 -1.0472" xyz="0.018 0 0" />
    <parent link="RFinger32_link" />
    <child link="RFinger33_link" />
    <axis xyz="0 0 1" />
    <limit lower="0" upper="0.872665" effort="1000" velocity="1000" />
  </joint>
  <joint name="RFinger21" type="revolute">
    <origin rpy="-4.712386 1.0472 -6.222099" xyz="0.0873 0.0073 0.006" />
    <parent link="r_wrist" />
    <child link="RFinger21_link" />
    <axis xyz="0 0 1" />
    <limit lower="0" upper="0.872665" effort="1000" velocity="1000" />
  </joint>
  <joint name="RFinger22" type="revolute">
    <origin rpy="0 0 -1.0472" xyz="0.018 0 0" />
    <parent link="RFinger21_link" />
    <child link="RFinger22_link" />
    <axis xyz="0 0 1" />
    <limit lower="0" upper="0.872665" effort="1000" velocity="1000" />
  </joint>
  <joint name="RFinger23" type="revolute">
    <origin rpy="0 0 -1.0472" xyz="0.018 0 0" />
    <parent link="RFinger22_link" />
    <child link="RFinger23_link" />
    <axis xyz="0 0 1" />
    <limit lower="0" upper="0.872665" effort="1000" velocity="1000" />
  </joint>
  <joint name="RFinger11" type="revolute">
    <origin rpy="-4.885615 1.04064 -6.249752" xyz="0.0821 0.0268 0.004" />
    <parent link="r_wrist" />
    <child link="RFinger11_link" />
    <axis xyz="0 0 1" />
    <limit lower="0" upper="0.872665" effort="1000" velocity="1000" />
  </joint>
  <joint name="RFinger12" type="revolute">
    <origin rpy="0 0 -1.0472" xyz="0.018 0 0" />
    <parent link="RFinger11_link" />
    <child link="RFinger12_link" />
    <axis xyz="0 0 1" />
    <limit lower="0" upper="0.872665" effort="1000" velocity="1000" />
  </joint>
  <joint name="RFinger13" type="revolute">
    <origin rpy="0 0 -1.0472" xyz="0.018 0 0" />
    <parent link="RFinger12_link" />
    <child link="RFinger13_link" />
    <axis xyz="0 0 1" />
    <limit lower="0" upper="0.872665" effort="1000" velocity="1000" />
  </joint>
  <joint name="RThumb1" type="revolute">
    <origin rpy="-0.58323 0.80626 -0.533978" xyz="0.0482 0.0357 -0.0199" />
    <parent link="r_wrist" />
    <child link="RThumb1_link" />
    <axis xyz="0 0 1" />
    <limit lower="0" upper="0.872665" effort="1000" velocity="1000" />
  </joint>
  <joint name="RThumb2" type="revolute">
    <origin rpy="0 0 -1.0472" xyz="0.022 0 0" />
    <parent link="RThumb1_link" />
    <child link="RThumb2_link" />
    <axis xyz="0 0 1" />
    <limit lower="0" upper="0.872665" effort="1000" velocity="1000" />
  </joint>
  <joint name="Accelerometer_sensor_fixedjoint" type="fixed">
    <origin xyz="0.00239 -0.03575 0.14526" />
    <parent link="torso" />
    <child link="ImuTorsoAccelerometer_frame" />
  </joint>
  <joint name="Gyrometer_sensor_fixedjoint" type="fixed">
    <origin xyz="0.00204 -0.03491 0.12941" />
    <parent link="torso" />
    <child link="ImuTorsoGyrometer_frame" />
  </joint>
  <joint name="Tablet_sensor_fixedjoint" type="fixed">
    <origin rpy="0 5.759586 0" xyz="0.083925 0 0.20151" />
    <parent link="torso" />
    <child link="Tablet_frame" />
  </joint>
  <joint name="ChestBoard/Button_sensor_fixedjoint" type="fixed">
    <origin xyz="0.049871 0.001588 0.194163" />
    <parent link="torso" />
    <child link="ChestButton_frame" />
  </joint>
  <joint name="HipPitch_shiny_joint" type="fixed">
    <parent link="Pelvis" />
    <child link="HipPitch_shiny" />
  </joint>
  <joint name="KneePitch_milky_joint" type="fixed">
    <parent link="Tibia" />
    <child link="KneePitch_milky" />
  </joint>
  <joint name="Sonar/Back_sensor_fixedjoint" type="fixed">
    <origin rpy="0 6.073747 -3.14159" xyz="-0.0718 0 -0.0534" />
    <parent link="Tibia" />
    <child link="SonarBack_frame" />
  </joint>
  <joint name="LaserSensor/VerticalLeft_sensor_fixedjoint" type="fixed">
    <origin rpy="0 0.349066 0" xyz="0.0562 0 -0.0692" />
    <parent link="Tibia" />
    <child link="VerticalLeftLaser_frame" />
  </joint>
  <joint name="LaserSensor/Front_sensor_fixedjoint" type="fixed">
    <origin rpy="0 0.349066 0" xyz="0.0562 0 -0.0692" />
    <parent link="Tibia" />
    <child link="SurroundingFrontLaser_device_frame" />
  </joint>
  <joint name="Bumper/Back_sensor_fixedjoint" type="fixed">
    <origin rpy="0 0 -3.14159" xyz="-0.251 0 -0.264" />
    <parent link="Tibia" />
    <child link="BumperB_frame" />
  </joint>
  <joint name="LaserSensor/Left_projected_sensor_fixedjoint" type="fixed">
    <origin rpy="0 0 -4.525905" xyz="-0.018 0.0899 -0.334" />
    <parent link="Tibia" />
    <child link="SurroundingLeftLaser_frame" />
  </joint>
  <joint name="LaserSensor/Shovel_sensor_fixedjoint" type="fixed">
    <origin rpy="0 0.349066 0" xyz="0.0562 0 -0.0692" />
    <parent link="Tibia" />
    <child link="ShovelLaser_frame" />
  </joint>
  <joint name="LaserSensor/Right_sensor_fixedjoint" type="fixed">
    <origin rpy="0 0.349066 -1.5708" xyz="-0.018 -0.0899 -0.0759" />
    <parent link="Tibia" />
    <child link="SurroundingRightLaser_device_frame" />
  </joint>
  <joint name="LaserSensor/Left_sensor_fixedjoint" type="fixed">
    <origin rpy="0 0.349066 -4.712386" xyz="-0.018 0.0899 -0.0759" />
    <parent link="Tibia" />
    <child link="SurroundingLeftLaser_device_frame" />
  </joint>
  <joint name="LaserSensor/Right_projected_sensor_fixedjoint" type="fixed">
    <origin rpy="0 0 -1.75728" xyz="-0.018 -0.0899 -0.334" />
    <parent link="Tibia" />
    <child link="SurroundingRightLaser_frame" />
  </joint>
  <joint name="LaserSensor/VerticalRight_sensor_fixedjoint" type="fixed">
    <origin rpy="0 0.349066 0" xyz="0.0562 0 -0.0692" />
    <parent link="Tibia" />
    <child link="VerticalRightLaser_frame" />
  </joint>
  <joint name="Sonar/Front_sensor_fixedjoint" type="fixed">
    <origin rpy="0 5.960327 0" xyz="0.0699 0 -0.1023" />
    <parent link="Tibia" />
    <child link="SonarFront_frame" />
  </joint>
  <joint name="Bumper/FrontLeft_sensor_fixedjoint" type="fixed">
    <origin rpy="0 0 -5.794325" xyz="0.129 0.227 -0.264" />
    <parent link="Tibia" />
    <child link="BumperFL_frame" />
  </joint>
  <joint name="AccelerometerBase_sensor_fixedjoint" type="fixed">
    <origin xyz="0.0147 -0.0017 -0.26319" />
    <parent link="Tibia" />
    <child link="ImuBaseAccelerometer_frame" />
  </joint>
  <joint name="Bumper/FrontRight_sensor_fixedjoint" type="fixed">
    <origin rpy="0 0 -0.48886" xyz="0.129 -0.227 -0.264" />
    <parent link="Tibia" />
    <child link="BumperFR_frame" />
  </joint>
  <joint name="LaserSensor/Front_projected_sensor_fixedjoint" type="fixed">
    <origin xyz="0.0562 0 -0.334" />
    <parent link="Tibia" />
    <child link="SurroundingFrontLaser_frame" />
  </joint>
  <joint name="WheelFL" type="continuous">
    <origin rpy="0 0 -5.208015" xyz="0.09 0.155 -0.264" />
    <parent link="Tibia" />
    <child link="WheelFL_link" />
    <axis xyz="1 0 0" />
  </joint>
  <joint name="WheelB" type="continuous">
    <origin rpy="0 0 -3.14159" xyz="-0.17 0 -0.264" />
    <parent link="Tibia" />
    <child link="WheelB_link" />
    <axis xyz="1 0 0" />
  </joint>
  <joint name="WheelFR" type="continuous">
    <origin rpy="0 0 -1.07517" xyz="0.09 -0.155 -0.264" />
    <parent link="Tibia" />
    <child link="WheelFR_link" />
    <axis xyz="1 0 0" />
  </joint>
  <joint name="sick_laser_rear" type="fixed">
    <origin rpy="0 0 -3.141593" xyz="-0.245 0 -0.1" />
    <parent link="Tibia" />
    <child link="sick_laser_rear" />
  </joint>
  <joint name="sick_laser_front" type="fixed">
    <origin xyz="0.245 0 -0.1" />
    <parent link="Tibia" />
    <child link="sick_laser_front" />
  </joint>
  <transmission name="HeadYaw_Transmission">
  <type>transmission_interface/SimpleTransmission</type>
  <joint name="HeadYaw">
    <hardwareInterface>hardware_interface/PositionJointInterface</hardwareInterface>
  </joint>
  <actuator name="HeadYaw_Motor">
    <!-- Dummy Values -->
    <hardwareInterface>PositionJointInterface</hardwareInterface>
    <mechanicalReduction>101.3</mechanicalReduction>
  </actuator>
</transmission>
<transmission name="HeadPitch_Transmission">
  <type>transmission_interface/SimpleTransmission</type>
  <joint name="HeadPitch">
    <hardwareInterface>hardware_interface/PositionJointInterface</hardwareInterface>
  </joint>
  <actuator name="HeadPitch_Motor">
    <!-- Dummy Values -->
    <hardwareInterface>PositionJointInterface</hardwareInterface>
    <mechanicalReduction>118.1</mechanicalReduction>
  </actuator>
</transmission>
<transmission name="LShoulderPitch_Transmission">
  <type>transmission_interface/SimpleTransmission</type>
  <joint name="LShoulderPitch">
    <hardwareInterface>hardware_interface/PositionJointInterface</hardwareInterface>
  </joint>
  <actuator name="LShoulderPitch_Motor">
    <hardwareInterface>PositionJointInterface</hardwareInterface>
    <mechanicalReduction>101.3</mechanicalReduction>
  </actuator>
</transmission>
<transmission name="LShoulderRoll_Transmission">
  <type>transmission_interface/SimpleTransmission</type>
  <joint name="LShoulderRoll">
    <hardwareInterface>hardware_interface/PositionJointInterface</hardwareInterface>
  </joint>
  <actuator name="LShoulderRoll_Motor">
    <hardwareInterface>PositionJointInterface</hardwareInterface>
    <mechanicalReduction>118.1</mechanicalReduction>
  </actuator>
</transmission>
<transmission name="LElbowYaw_Transmission">
  <type>transmission_interface/SimpleTransmission</type>
  <joint name="LElbowYaw">
    <hardwareInterface>hardware_interface/PositionJointInterface</hardwareInterface>
  </joint>
  <actuator name="LElbowYaw_Motor">
    <hardwareInterface>PositionJointInterface</hardwareInterface>
    <mechanicalReduction>101.3</mechanicalReduction>
  </actuator>
</transmission>
<transmission name="LElbowRoll_Transmission">
  <type>transmission_interface/SimpleTransmission</type>
  <joint name="LElbowRoll">
    <hardwareInterface>hardware_interface/PositionJointInterface</hardwareInterface>
  </joint>
  <actuator name="LElbowRoll_Motor">
    <hardwareInterface>PositionJointInterface</hardwareInterface>
    <mechanicalReduction>118.1</mechanicalReduction>
  </actuator>
</transmission>
<transmission name="LWristYaw_Transmission">
  <type>transmission_interface/SimpleTransmission</type>
  <joint name="LWristYaw">
    <hardwareInterface>hardware_interface/PositionJointInterface</hardwareInterface>
  </joint>
  <actuator name="LWristYaw_Motor">
    <hardwareInterface>PositionJointInterface</hardwareInterface>
    <mechanicalReduction>118.1</mechanicalReduction>
  </actuator>
</transmission>
<transmission name="LHand_Transmission">
  <type>transmission_interface/SimpleTransmission</type>
  <joint name="LHand">
    <hardwareInterface>hardware_interface/PositionJointInterface</hardwareInterface>
  </joint>
  <actuator name="LHand_Motor">
    <hardwareInterface>PositionJointInterface</hardwareInterface>
    <mechanicalReduction>36.24</mechanicalReduction>
  </actuator>
</transmission>
<transmission name="RShoulderPitch_Transmission">
  <type>transmission_interface/SimpleTransmission</type>
  <joint name="RShoulderPitch">
    <hardwareInterface>hardware_interface/PositionJointInterface</hardwareInterface>
  </joint>
  <actuator name="RShoulderPitch_Motor">
    <hardwareInterface>PositionJointInterface</hardwareInterface>
    <mechanicalReduction>101.3</mechanicalReduction>
  </actuator>
</transmission>
<transmission name="RShoulderRoll_Transmission">
  <type>transmission_interface/SimpleTransmission</type>
  <joint name="RShoulderRoll">
    <hardwareInterface>hardware_interface/PositionJointInterface</hardwareInterface>
  </joint>
  <actuator name="RShoulderRoll_Motor">
    <hardwareInterface>PositionJointInterface</hardwareInterface>
    <mechanicalReduction>118.1</mechanicalReduction>
  </actuator>
</transmission>
<transmission name="RElbowYaw_Transmission">
  <type>transmission_interface/SimpleTransmission</type>
  <joint name="RElbowYaw">
    <hardwareInterface>hardware_interface/PositionJointInterface</hardwareInterface>
  </joint>
  <actuator name="RElbowYaw_Motor">
    <hardwareInterface>PositionJointInterface</hardwareInterface>
    <mechanicalReduction>101.3</mechanicalReduction>
  </actuator>
</transmission>
<transmission name="RElbowRoll_Transmission">
  <type>transmission_interface/SimpleTransmission</type>
  <joint name="RElbowRoll">
    <hardwareInterface>hardware_interface/PositionJointInterface</hardwareInterface>
  </joint>
  <actuator name="RElbowRoll_Motor">
    <hardwareInterface>PositionJointInterface</hardwareInterface>
    <mechanicalReduction>118.1</mechanicalReduction>
  </actuator>
</transmission>
<transmission name="RWristYaw_Transmission">
  <type>transmission_interface/SimpleTransmission</type>
  <joint name="RWristYaw">
    <hardwareInterface>hardware_interface/PositionJointInterface</hardwareInterface>
  </joint>
  <actuator name="RWristYaw_Motor">
    <hardwareInterface>PositionJointInterface</hardwareInterface>
    <mechanicalReduction>118.1</mechanicalReduction>
  </actuator>
</transmission>
<transmission name="RHand_Transmission">
  <type>transmission_interface/SimpleTransmission</type>
  <joint name="RHand">
    <hardwareInterface>hardware_interface/PositionJointInterface</hardwareInterface>
  </joint>
  <actuator name="RHand_Motor">
    <hardwareInterface>PositionJointInterface</hardwareInterface>
    <mechanicalReduction>36.24</mechanicalReduction>
  </actuator>
</transmission>
<transmission name="HipRoll_Transmission">
  <type>transmission_interface/SimpleTransmission</type>
  <joint name="HipRoll">
    <hardwareInterface>hardware_interface/PositionJointInterface</hardwareInterface>
  </joint>
  <actuator name="HipRoll_Motor">
    <!-- Dummy Values -->
    <hardwareInterface>PositionJointInterface</hardwareInterface>
    <mechanicalReduction>108.33</mechanicalReduction>
  </actuator>
</transmission>
<transmission name="HipPitch_Transmission">
  <type>transmission_interface/SimpleTransmission</type>
  <joint name="HipPitch">
    <hardwareInterface>hardware_interface/PositionJointInterface</hardwareInterface>
  </joint>
  <actuator name="HipPitch_Motor">
    <!-- Dummy Values -->
    <hardwareInterface>PositionJointInterface</hardwareInterface>
    <mechanicalReduction>108.33</mechanicalReduction>
  </actuator>
</transmission>
<transmission name="KneePitch_Transmission">
  <type>transmission_interface/SimpleTransmission</type>
  <joint name="KneePitch">
    <hardwareInterface>hardware_interface/PositionJointInterface</hardwareInterface>
  </joint>
  <actuator name="KneePitch_Motor">
    <!-- Dummy Values -->
    <hardwareInterface>PositionJointInterface</hardwareInterface>
    <mechanicalReduction>108.33</mechanicalReduction>
  </actuator>
</transmission>
<transmission name="WheelFL_Transmission">
  <type>transmission_interface/SimpleTransmission</type>
  <joint name="WheelFL">
    <hardwareInterface>hardware_interface/EffortJointInterface</hardwareInterface>
  </joint>
  <actuator name="WheelFL_Motor">
    <!-- Dummy Values -->
    <hardwareInterface>EffortJointInterface</hardwareInterface>
    <mechanicalReduction>25.0</mechanicalReduction>
  </actuator>
</transmission>
<transmission name="WheelB_Transmission">
  <type>transmission_interface/SimpleTransmission</type>
  <joint name="WheelB">
    <hardwareInterface>hardware_interface/EffortJointInterface</hardwareInterface>
  </joint>
  <actuator name="WheelB_Motor">
    <!-- Dummy Values -->
    <hardwareInterface>EffortJointInterface</hardwareInterface>
    <mechanicalReduction>25.0</mechanicalReduction>
  </actuator>
</transmission>
<transmission name="WheelFR_Transmission">
  <type>transmission_interface/SimpleTransmission</type>
  <joint name="WheelFR">
    <hardwareInterface>hardware_interface/EffortJointInterface</hardwareInterface>
  </joint>
  <actuator name="WheelFR_Motor">
    <!-- Dummy Values -->
    <hardwareInterface>EffortJointInterface</hardwareInterface>
    <mechanicalReduction>25.0</mechanicalReduction>
  </actuator>
</transmission>
</robot>
